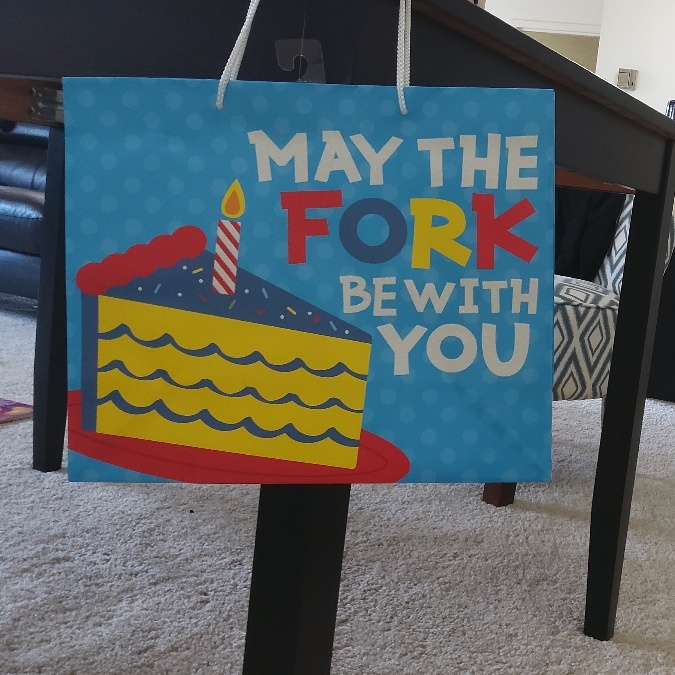paper_bag: (65, 80, 547, 474)
